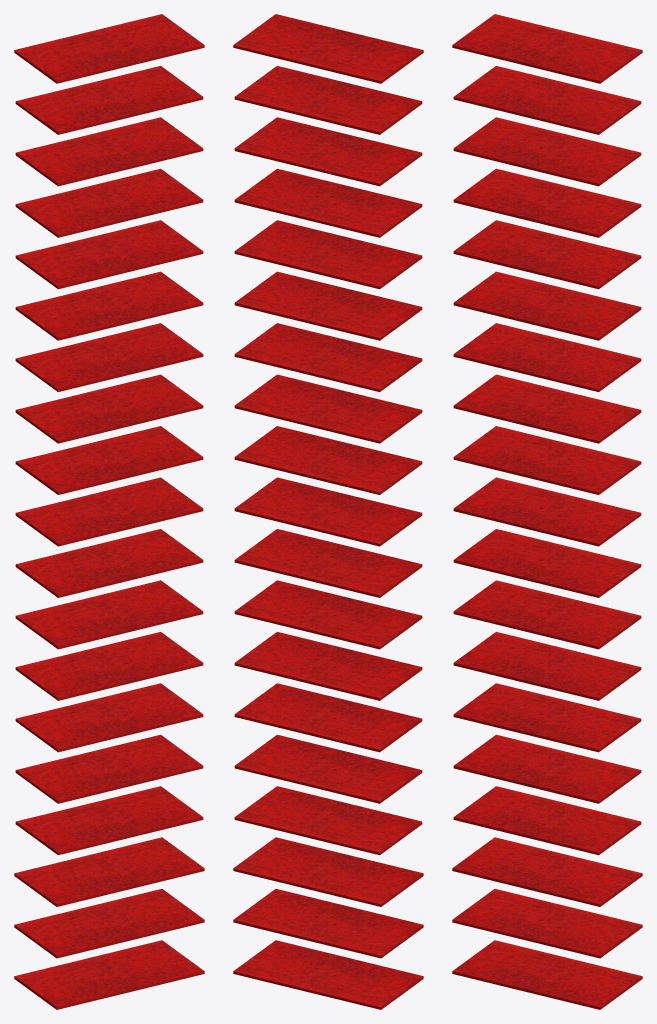
The model's file is 19floorsintherightplace.glb.
3 views of the same model, side by side, from view 1: azimuth 30°, elevation 25°; view 2: azimuth 150°, elevation 25°; view 3: azimuth 330°, elevation 25° (orthographic).
Parts seen in each view (by area): view 1: Box.041, Box.040, Box.042, Box.058, Box.057, Box.045, Box.046, Box.047, Box.048, Box.050, Box.051, Box.052 (+7 smaller); view 2: Box.041, Box.040, Box.042, Box.058, Box.057, Box.045, Box.046, Box.047, Box.048, Box.050, Box.051, Box.052 (+7 smaller); view 3: Box.041, Box.040, Box.042, Box.058, Box.057, Box.045, Box.046, Box.047, Box.048, Box.050, Box.051, Box.052 (+7 smaller).
Boxes of the visible parts, x1,y1,x2,y2 form: Box.041: [14, 889, 204, 958]; Box.040: [14, 940, 204, 1009]; Box.042: [14, 837, 204, 906]; Box.058: [14, 14, 204, 83]; Box.057: [15, 66, 203, 134]; Box.045: [15, 683, 203, 752]; Box.046: [15, 632, 203, 700]; Box.047: [15, 580, 203, 649]; Box.048: [15, 529, 203, 597]; Box.050: [15, 426, 203, 494]; Box.051: [15, 374, 203, 443]; Box.052: [15, 323, 203, 391]; Box.041: [233, 889, 423, 958]; Box.040: [233, 940, 423, 1009]; Box.042: [233, 837, 423, 906]; Box.058: [233, 14, 423, 83]; Box.057: [234, 66, 422, 134]; Box.045: [234, 683, 422, 752]; Box.046: [234, 632, 422, 700]; Box.047: [234, 580, 422, 649]; Box.048: [234, 529, 422, 597]; Box.050: [234, 426, 422, 494]; Box.051: [234, 374, 422, 443]; Box.052: [234, 323, 422, 391]; Box.041: [452, 889, 642, 958]; Box.040: [452, 940, 642, 1009]; Box.042: [452, 837, 642, 906]; Box.058: [452, 14, 642, 83]; Box.057: [453, 66, 641, 134]; Box.045: [453, 683, 641, 752]; Box.046: [453, 632, 641, 700]; Box.047: [453, 580, 641, 649]; Box.048: [453, 529, 641, 597]; Box.050: [453, 426, 641, 494]; Box.051: [453, 374, 641, 443]; Box.052: [453, 323, 641, 391].
Bounding box in the file's own units: 6.02 × 36.1 × 3.
1 material, 1 textured.
